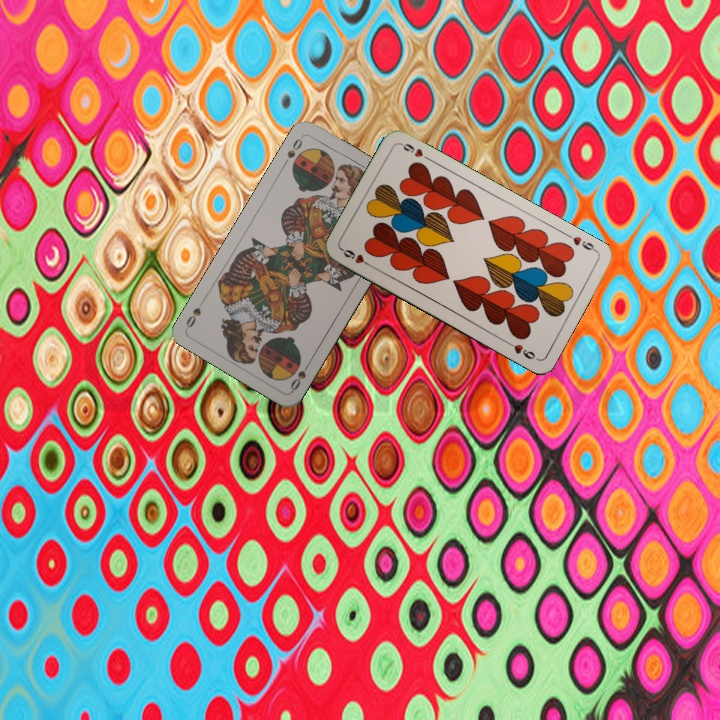H9: (338, 245, 375, 270), (569, 232, 600, 255)
SO: (286, 357, 313, 394), (279, 132, 305, 169)
